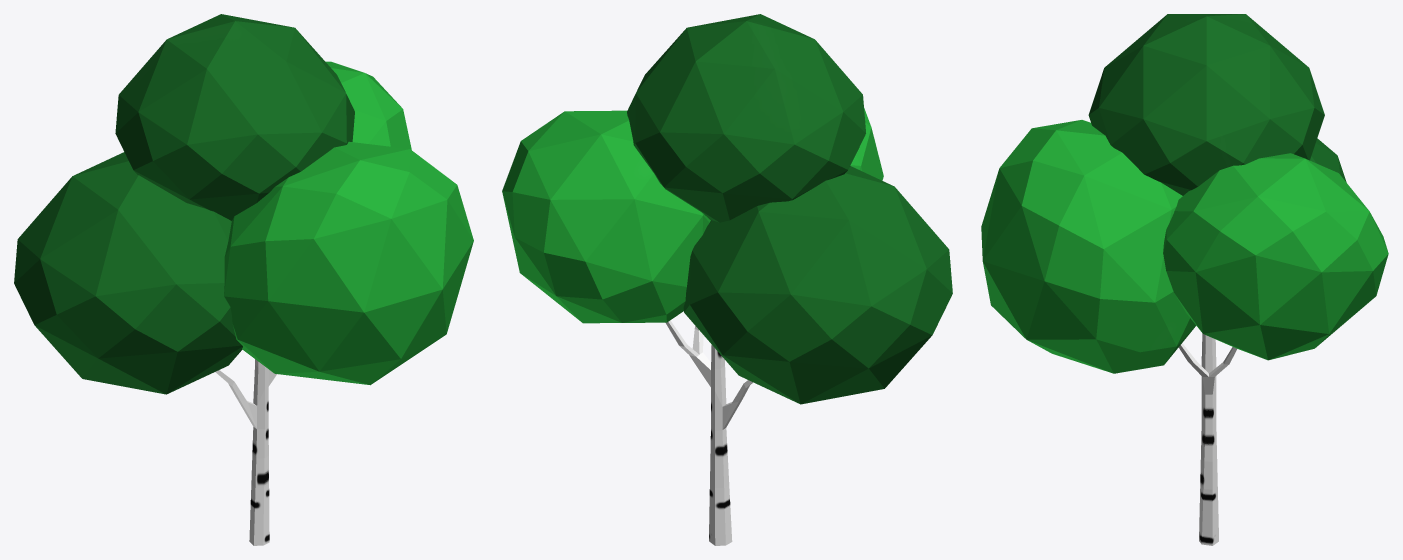
Rendered from birch02__mesh_LOD.fbx.
3 renders of one model, left to right at view 1: azimuth 30°, elevation 25°; view 2: azimuth 150°, elevation 25°; view 3: azimuth 270°, elevation 25°, orthographic. The views are drawn at different scales.
Visible parts, largest first — view 1: birch02__mesh_LOD0; view 2: birch02__mesh_LOD0; view 3: birch02__mesh_LOD0.
Boxes of the visible parts, x1,y1,x2,y2 form: birch02__mesh_LOD0: (14, 14, 473, 545); birch02__mesh_LOD0: (502, 14, 952, 545); birch02__mesh_LOD0: (981, 14, 1388, 545).
Size of what is drawn, in the model's own units: 7776 by 10165 by 7314.
5 materials, 5 textured.
